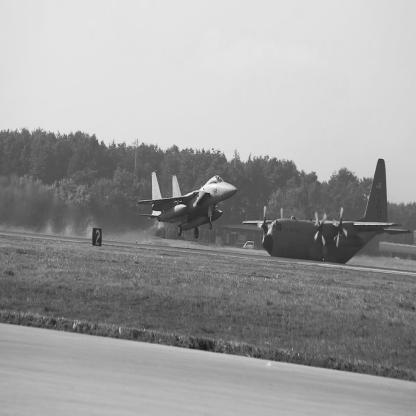C130: (243, 160, 414, 266)
F15: (135, 170, 239, 240)
